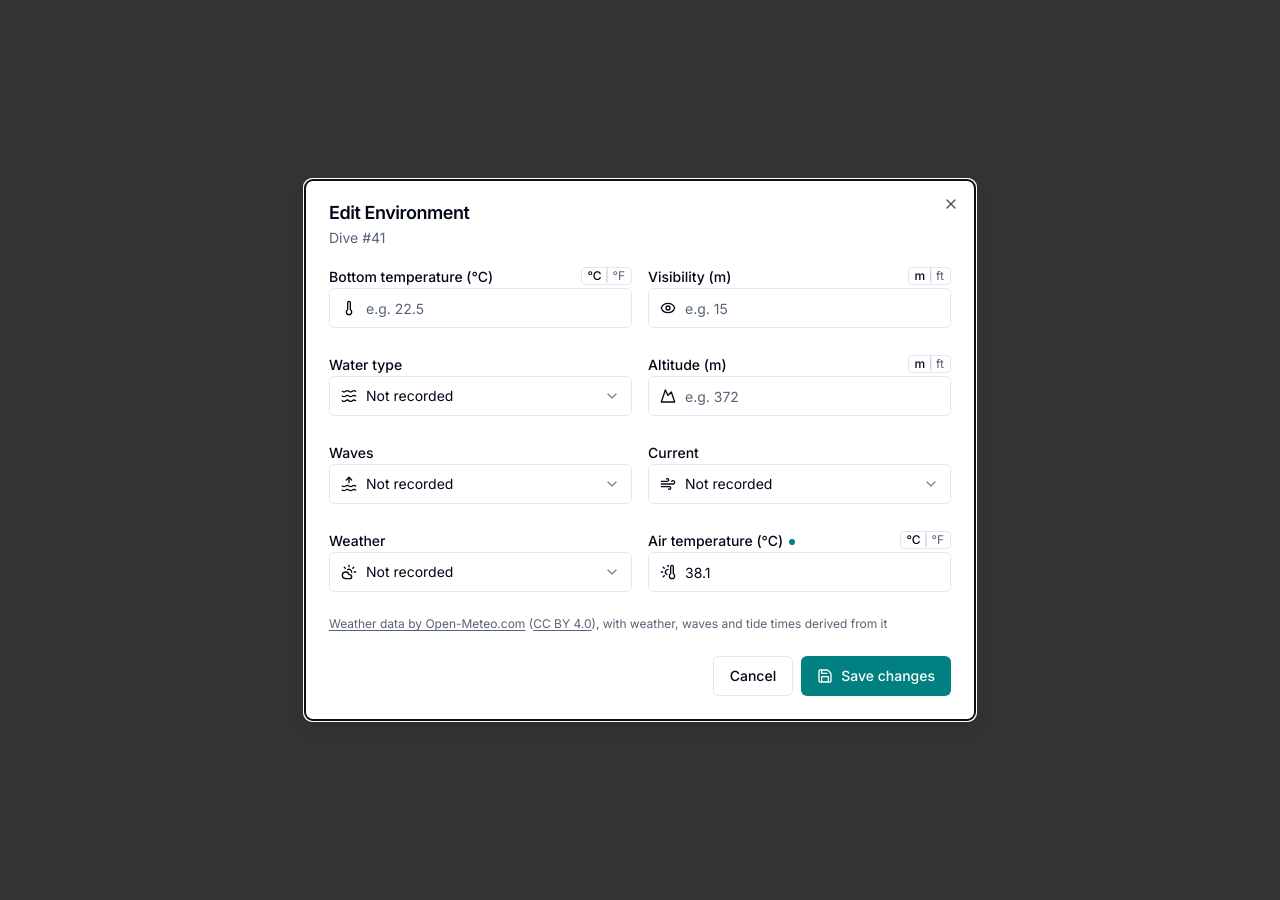
Test case: the Environment dialog on a dive with fetched conditions › takes the mark off a field the diver changes, and the credit with the last
Replace the text in the number field labelled "Air temperature (°C)" with "30" at point(800, 572), box [648,552,951,592]
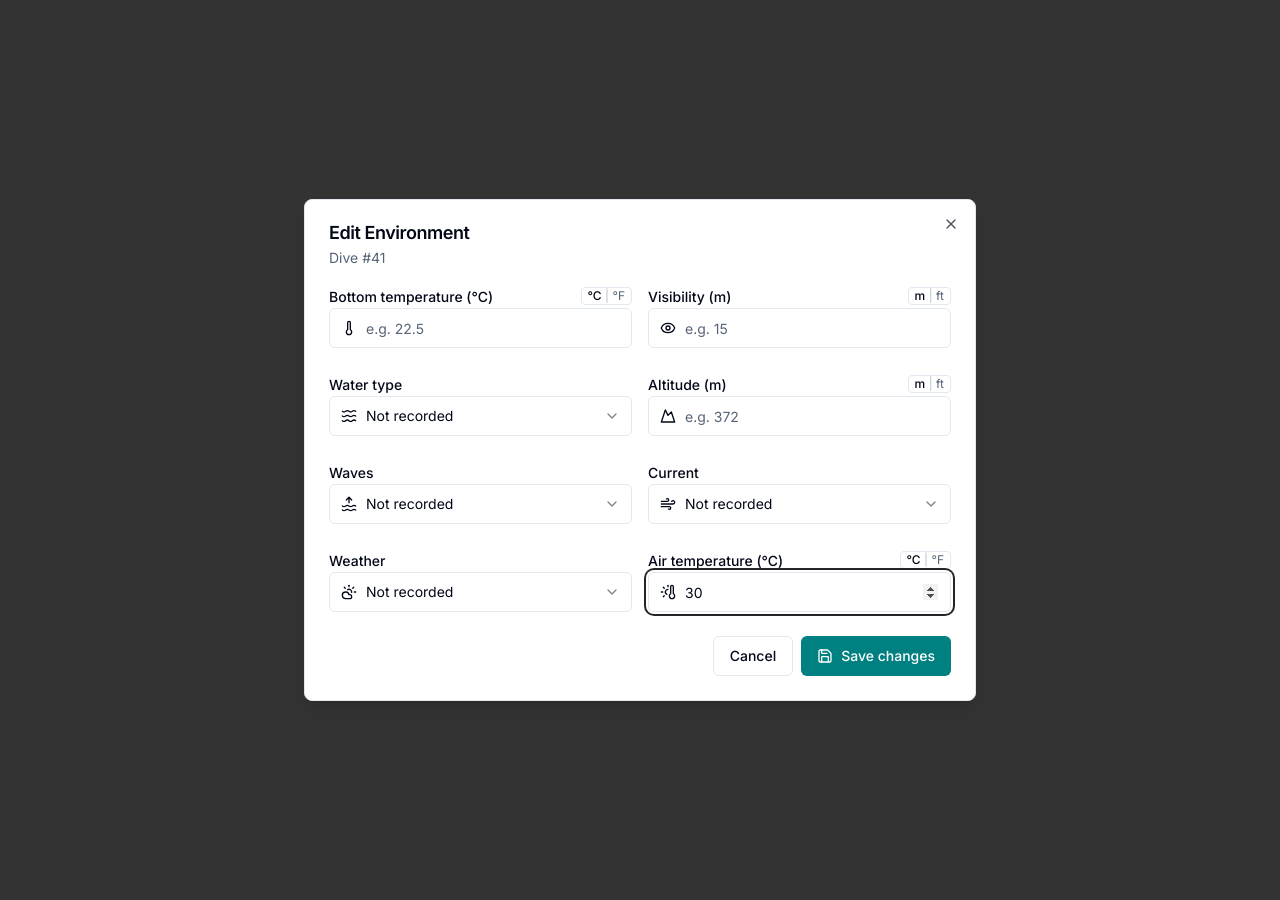
Expected: the link "Open-Meteo" is gone
